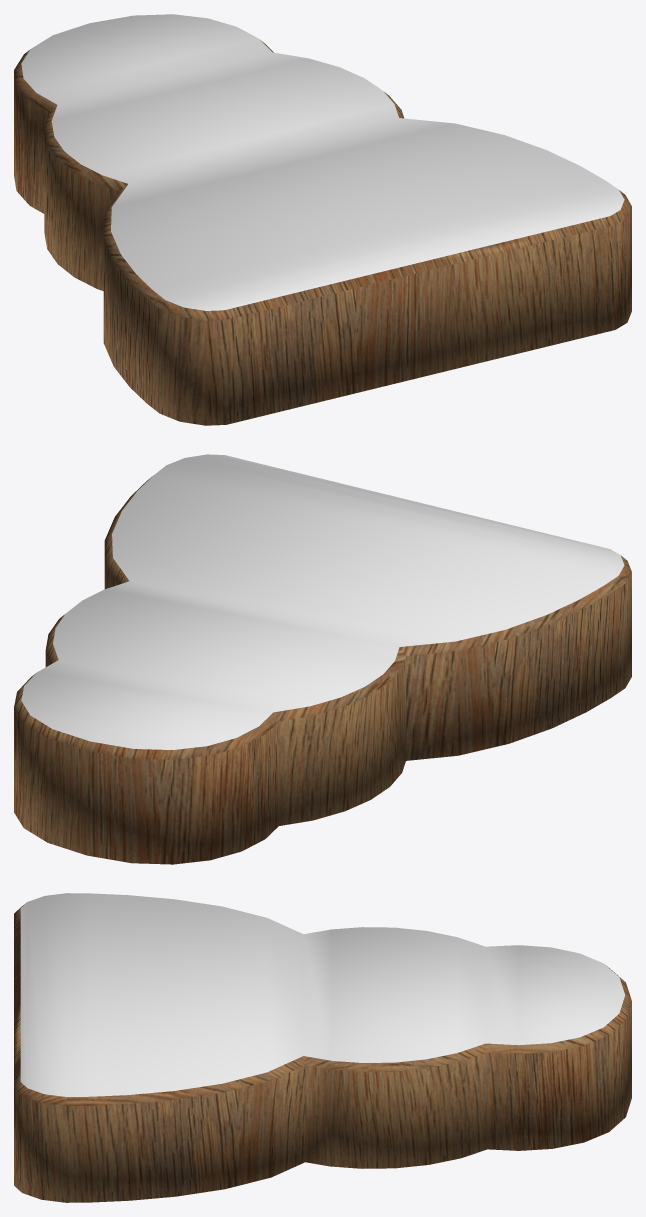
File: flat3dpieces-pawn.gltf
3 renders of one model, top to bottom at view 1: azimuth 30°, elevation 25°; view 2: azimuth 150°, elevation 25°; view 3: azimuth 270°, elevation 25°, orthographic. The views are drawn at different scales.
Size of the model in its own units: 1.11 by 0.255 by 1.39.
2 materials, 1 textured.
